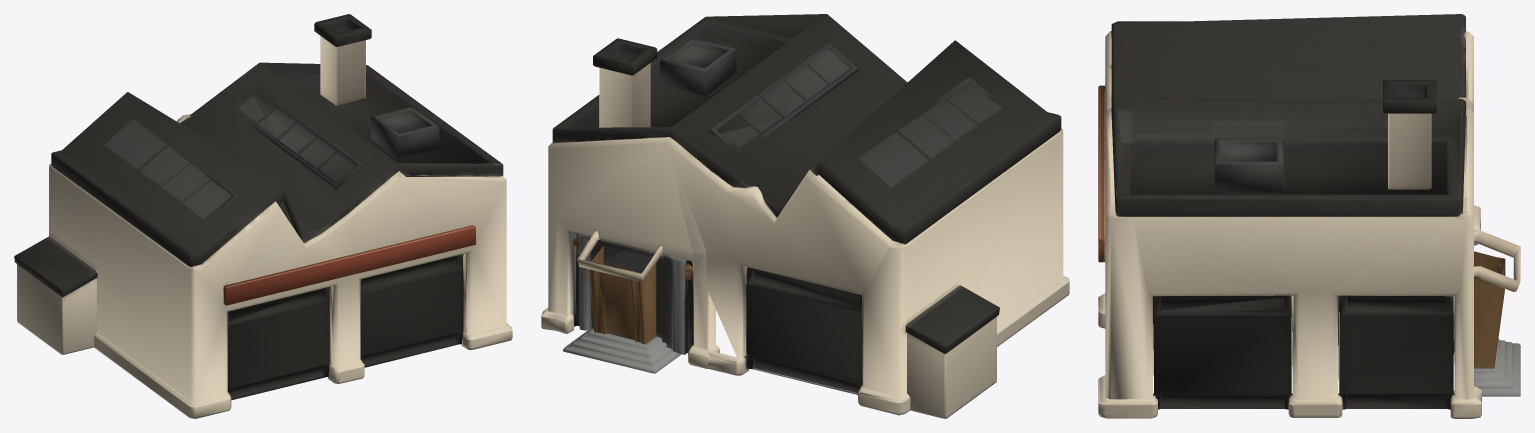
Rendered from original_glb.glb.
The picture shows the model from 3 angles, left to right: view 1: azimuth 30°, elevation 25°; view 2: azimuth 150°, elevation 25°; view 3: azimuth 270°, elevation 25°; orthographic projection. The views are drawn at different scales.
Visible parts, largest first — view 1: Ivory Sawtooth Depot; view 2: Ivory Sawtooth Depot; view 3: Ivory Sawtooth Depot.
Boxes of the visible parts, x1,y1,x2,y2 form: Ivory Sawtooth Depot: [14, 14, 512, 418]; Ivory Sawtooth Depot: [541, 14, 1069, 418]; Ivory Sawtooth Depot: [1098, 14, 1520, 418].
Bounding box in the file's own units: 0.998 × 0.6387 × 0.8145.
Materials: 1 (1 with a texture image).
